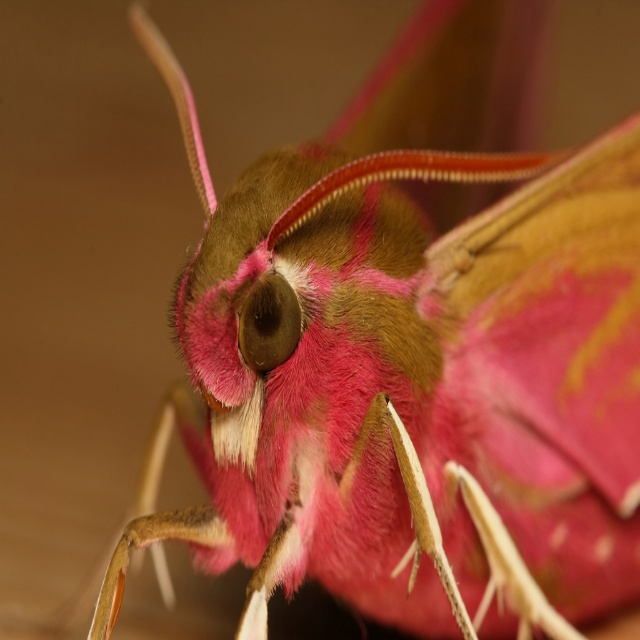Butterfly: (134, 76, 570, 640)
